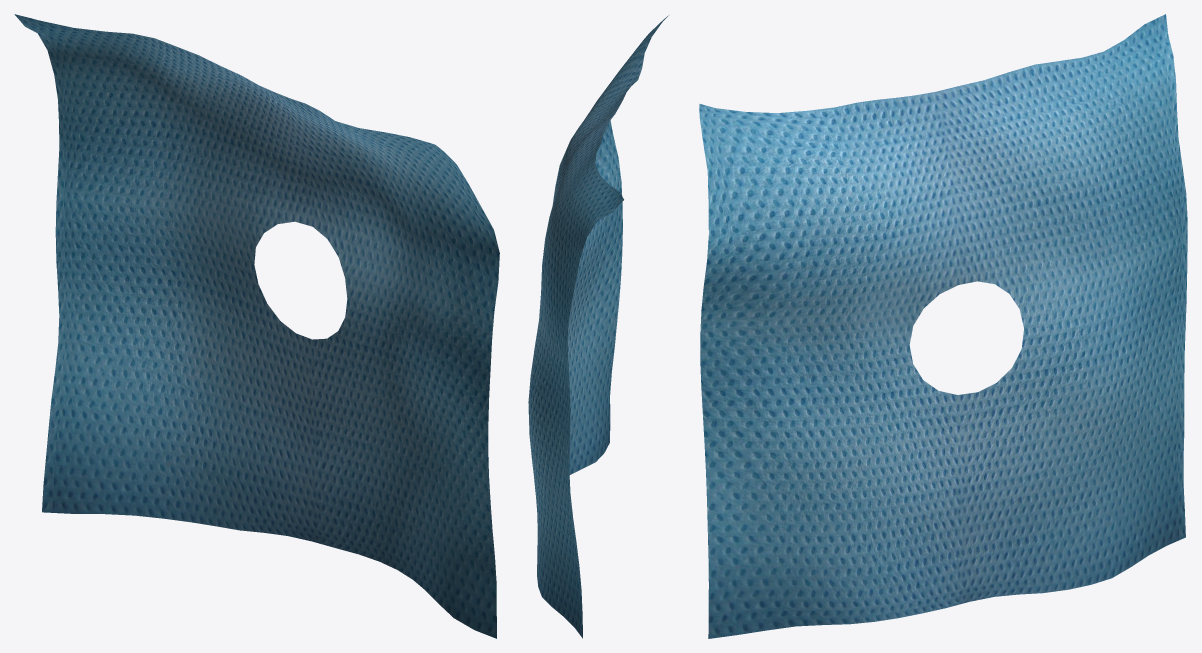
File: lumbar_Towel.FBX
The picture shows the model from 3 angles, left to right: view 1: azimuth 30°, elevation 25°; view 2: azimuth 150°, elevation 25°; view 3: azimuth 270°, elevation 25°; orthographic projection. The views are drawn at different scales.
Parts seen in each view (by area): view 1: Sterile_hole_towel01; view 2: Sterile_hole_towel01; view 3: Sterile_hole_towel01.
Boxes of the visible parts, <box> form: Sterile_hole_towel01: <box>14,14,499,638</box>; Sterile_hole_towel01: <box>528,15,668,638</box>; Sterile_hole_towel01: <box>699,14,1187,638</box>.
Size of the model in its own units: 11.83 by 23.14 by 20.26.
Materials: 1 (1 with a texture image).
